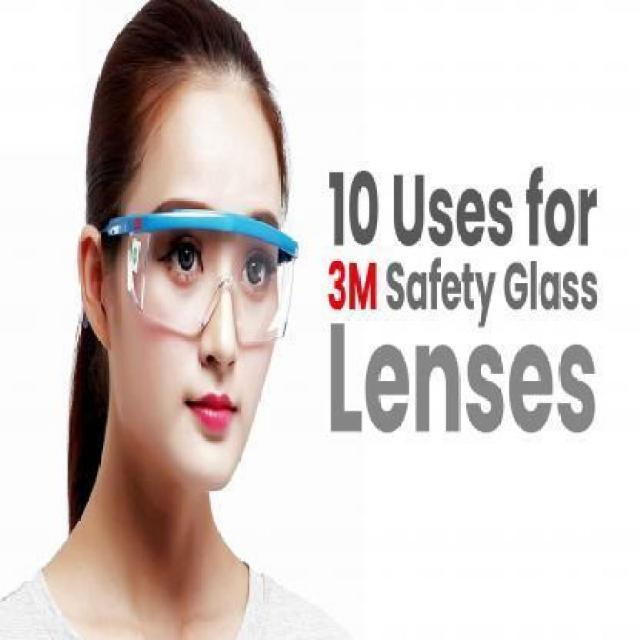Goggles: (85, 203, 310, 346)
